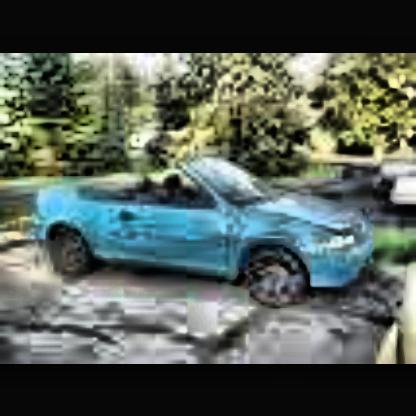Geo Metro Convertible 1993: (43, 154, 381, 317)
